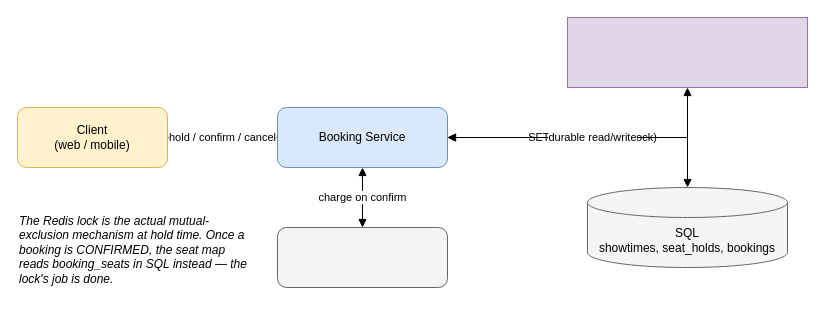
This 825x315 diagram has some shape labels left out. Here are the shapes that lost their labels. From the top down, the centre of each, then its label:
At point 687,52: "Redis lock:seat:{showtimeId}:{seatId}".
At point 362,257: "Payment Service (external)".
